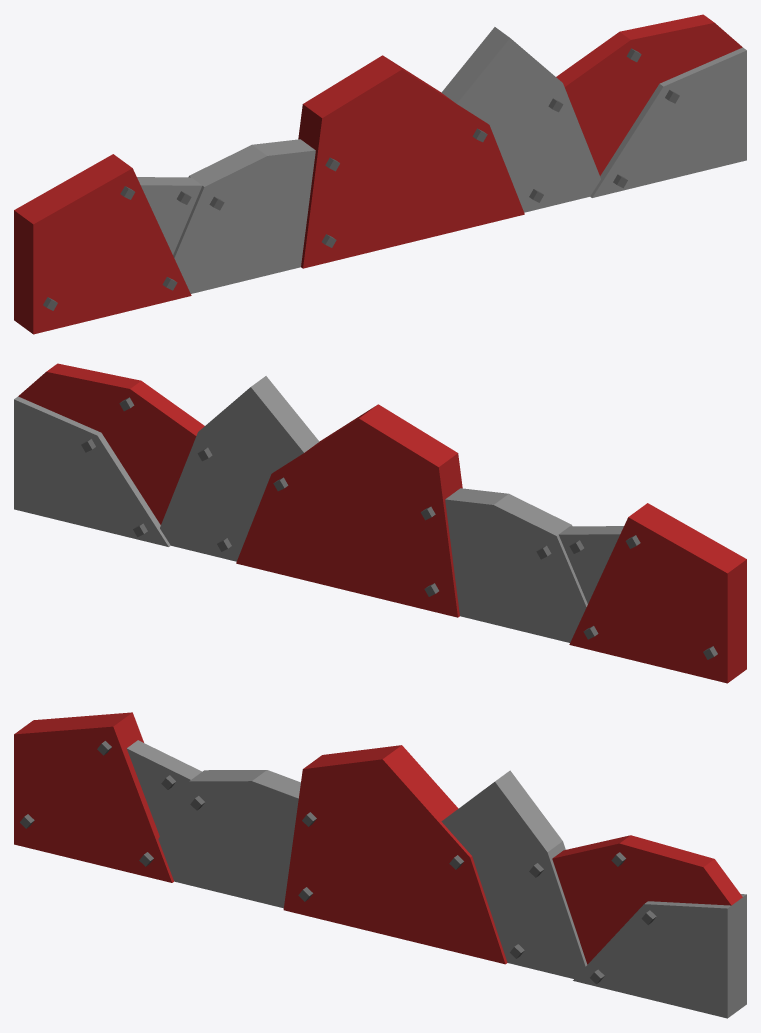
Rendered from Prop_Building_Savage_Metal_Plated_Sheet_Top_01.FBX.
3 views of the same model, one above another, from view 1: azimuth 30°, elevation 25°; view 2: azimuth 150°, elevation 25°; view 3: azimuth 330°, elevation 25° (orthographic).
Parts seen in each view (by area): view 1: Prop_Building_Savage_Metal_Plated_Sheet_Top_01; view 2: Prop_Building_Savage_Metal_Plated_Sheet_Top_01; view 3: Prop_Building_Savage_Metal_Plated_Sheet_Top_01.
Boxes of the visible parts, left/top/right/bottom form: Prop_Building_Savage_Metal_Plated_Sheet_Top_01: left=14, top=14, right=746, bottom=334; Prop_Building_Savage_Metal_Plated_Sheet_Top_01: left=14, top=363, right=746, bottom=683; Prop_Building_Savage_Metal_Plated_Sheet_Top_01: left=14, top=712, right=746, bottom=1018.
Bounding box in the file's own units: 6000 × 1432 × 396.
